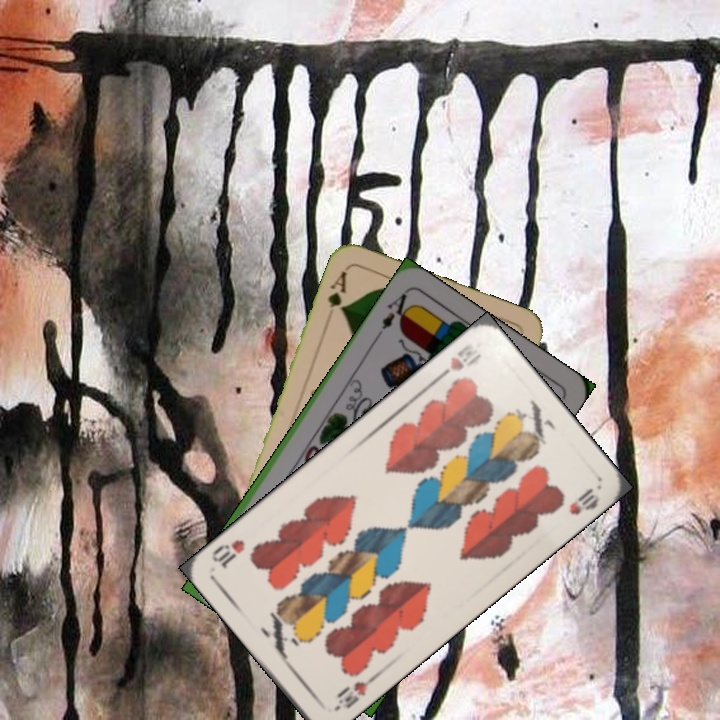EA: (372, 287, 416, 340)
GA: (323, 266, 350, 315)
H10: (432, 339, 485, 384), (329, 671, 379, 714)
